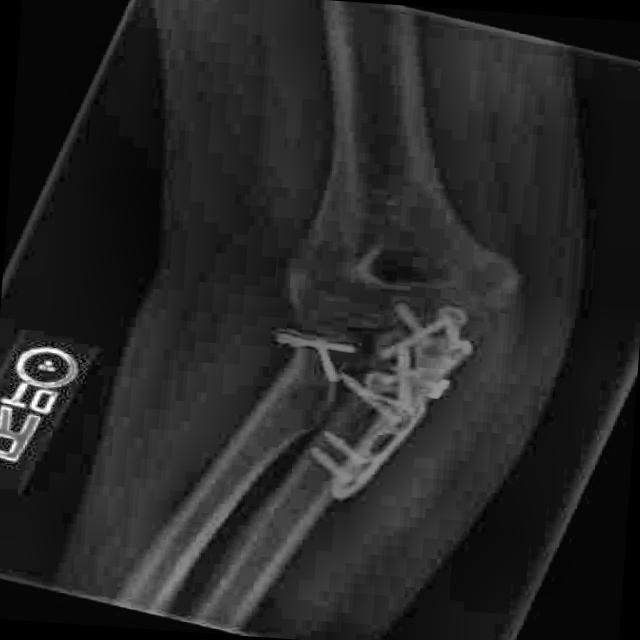elbow positive: (424, 221, 534, 327), (316, 383, 389, 455)
